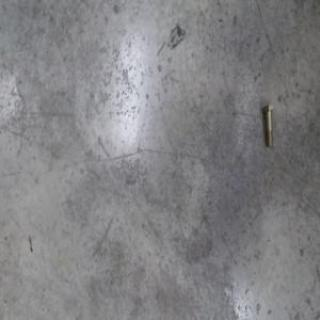Bolttrack_idkeyframe: (263, 102, 274, 147)
